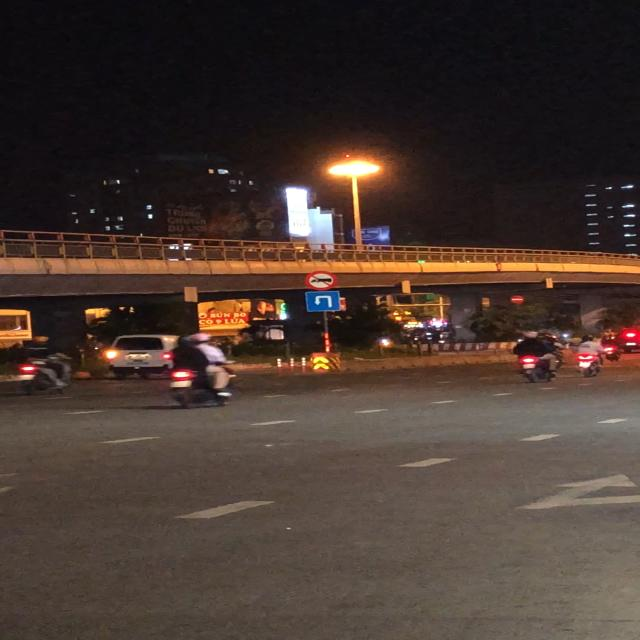Bien bao cam xe so-mi ro-mooc: (304, 270, 338, 290)
